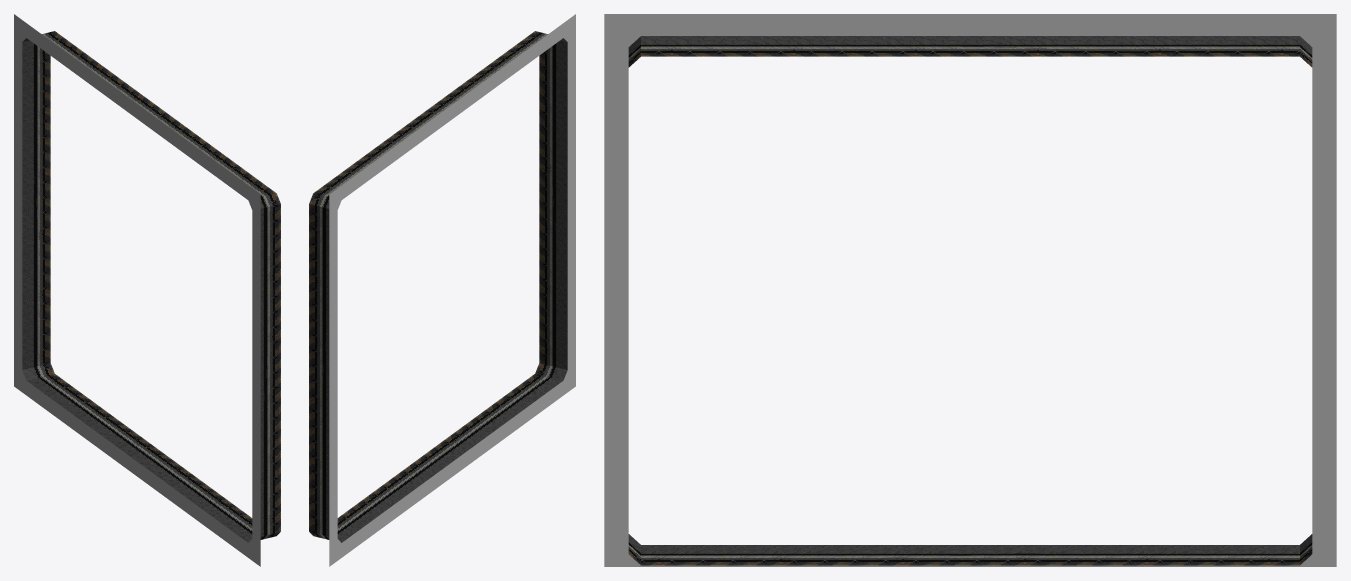
The model's file is window.obj.
3 renders of one model, left to right at view 1: azimuth 30°, elevation 25°; view 2: azimuth 150°, elevation 25°; view 3: azimuth 270°, elevation 25°, orthographic. The views are drawn at different scales.
Parts seen in each view (by area): view 1: Plane; view 2: Plane; view 3: Plane.
Part boxes in pixels (x1,y1,x2,y2): Plane: (14, 14, 280, 566); Plane: (309, 14, 575, 566); Plane: (604, 14, 1336, 566).
Bounding box in the file's own units: 0.4 × 5 × 6.
